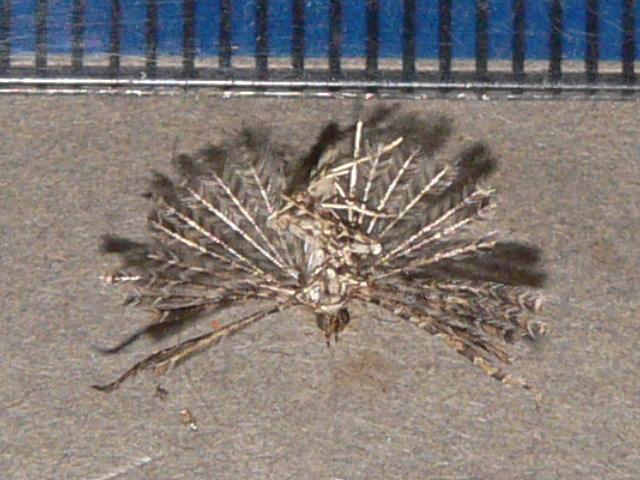Alucitidae: (85, 96, 545, 401)
moth: (87, 98, 547, 403)
